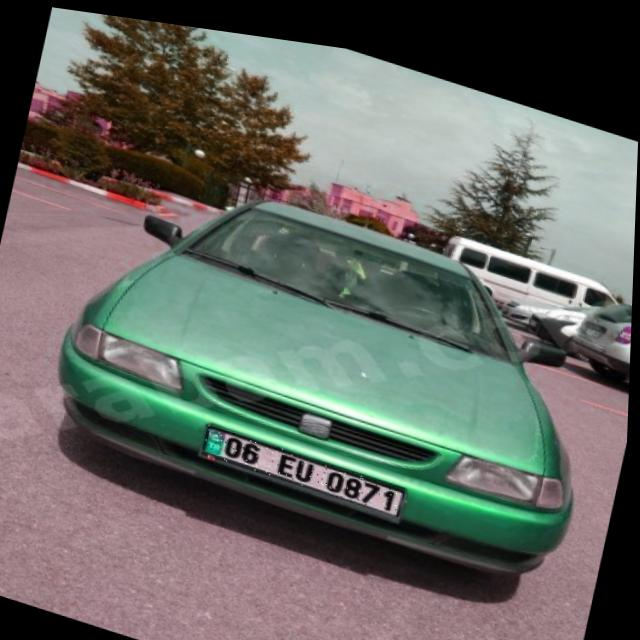license_plate: (203, 417, 409, 506)
